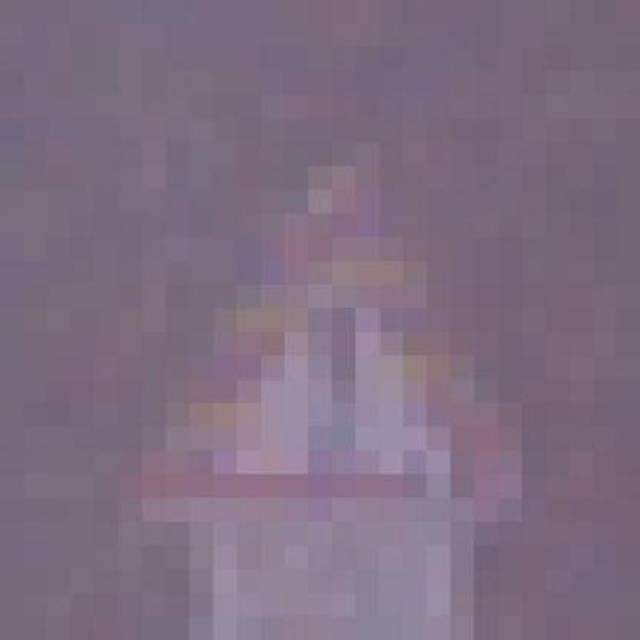Attention Please-: (71, 142, 569, 546)
